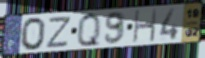4: (158, 7, 182, 42)
9: (103, 11, 128, 46)
H: (132, 8, 158, 45)
O: (20, 16, 47, 52)
Q: (76, 11, 102, 49)
Z: (44, 15, 73, 50)
